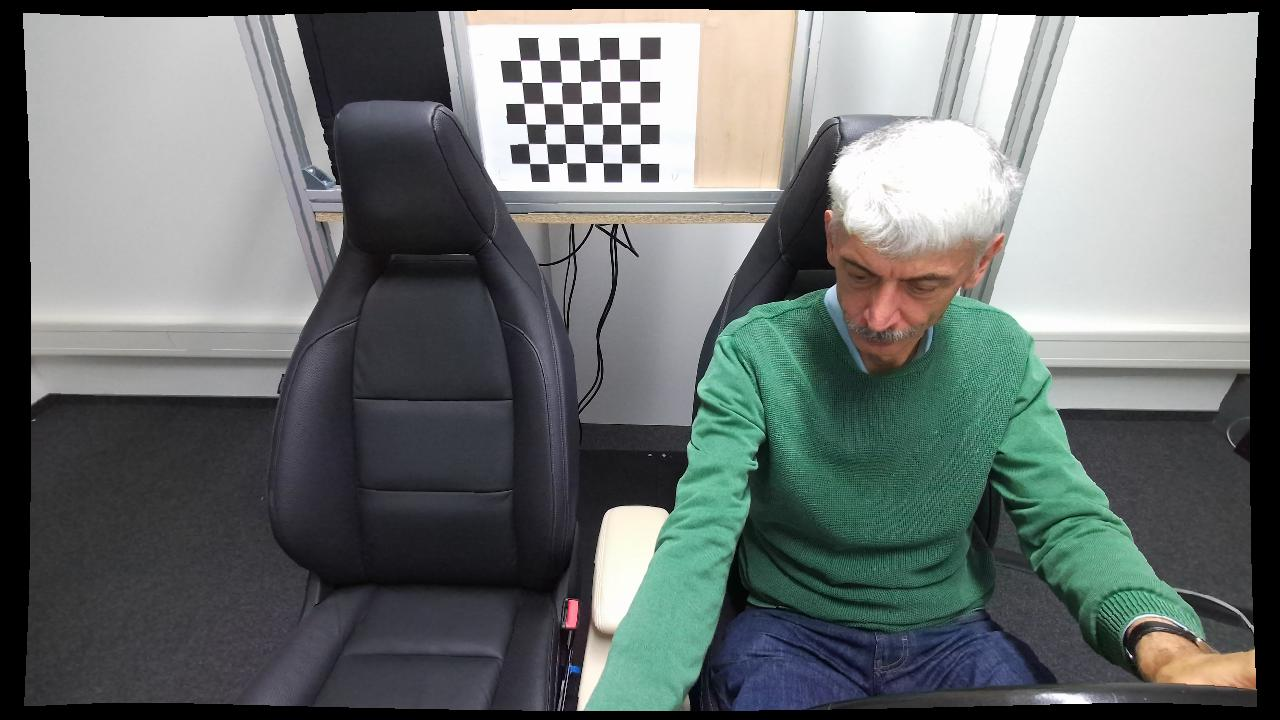Distracted: (581, 116, 1141, 708)
